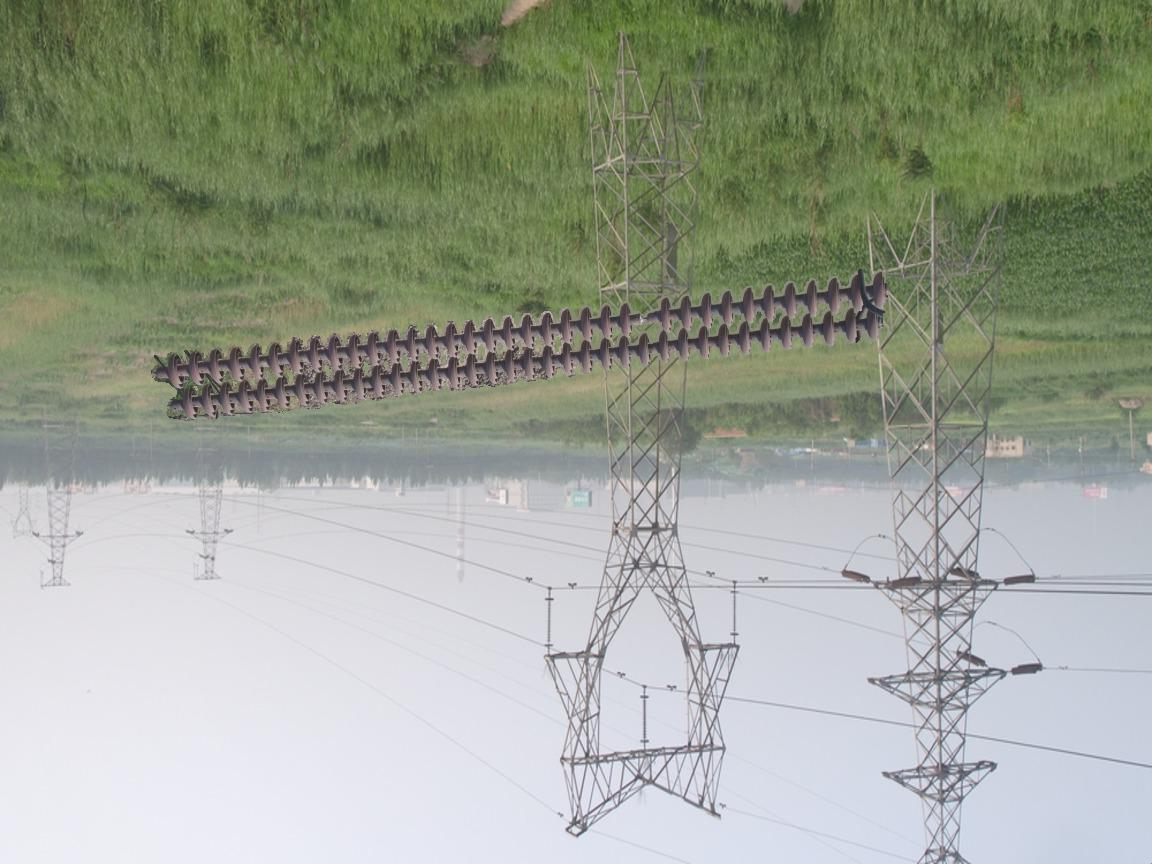insulator: (158, 266, 895, 425)
insulator_stringdrop: (616, 295, 674, 338)
